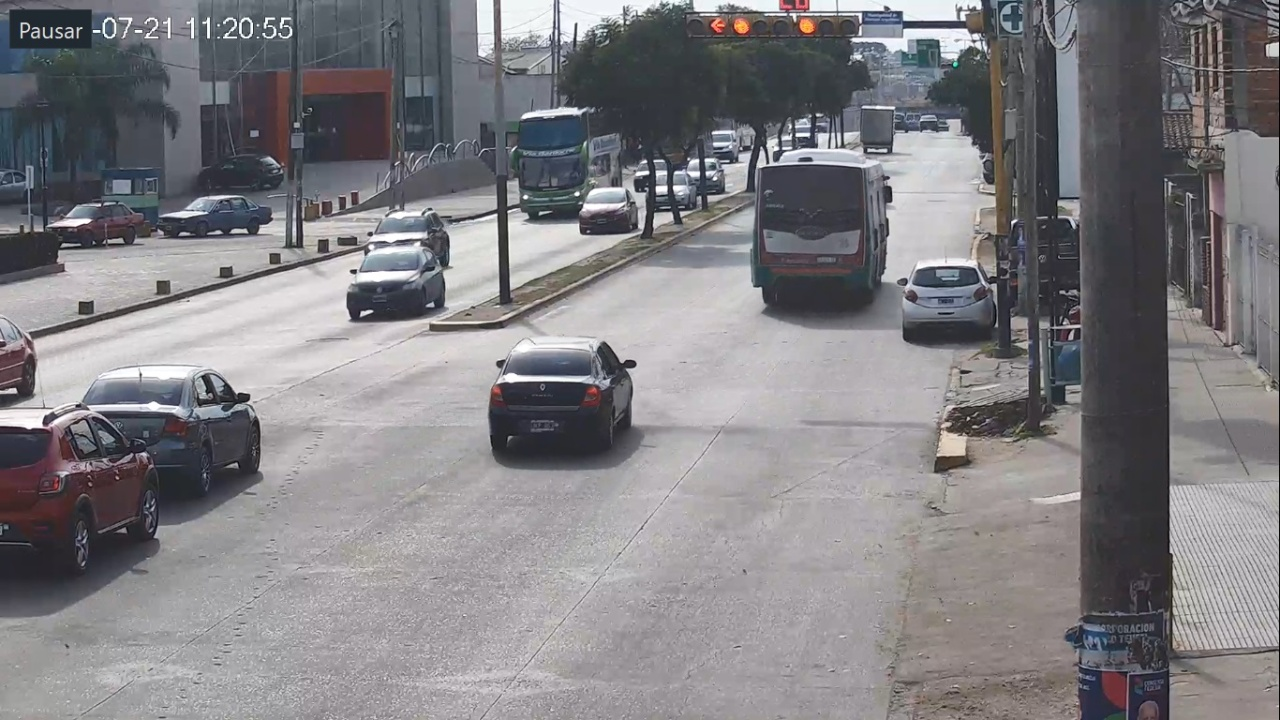bus: (750, 148, 893, 306)
car: (489, 337, 636, 452), (897, 258, 997, 343)
front car: (346, 247, 447, 320)
traffic light: (728, 13, 860, 40)
